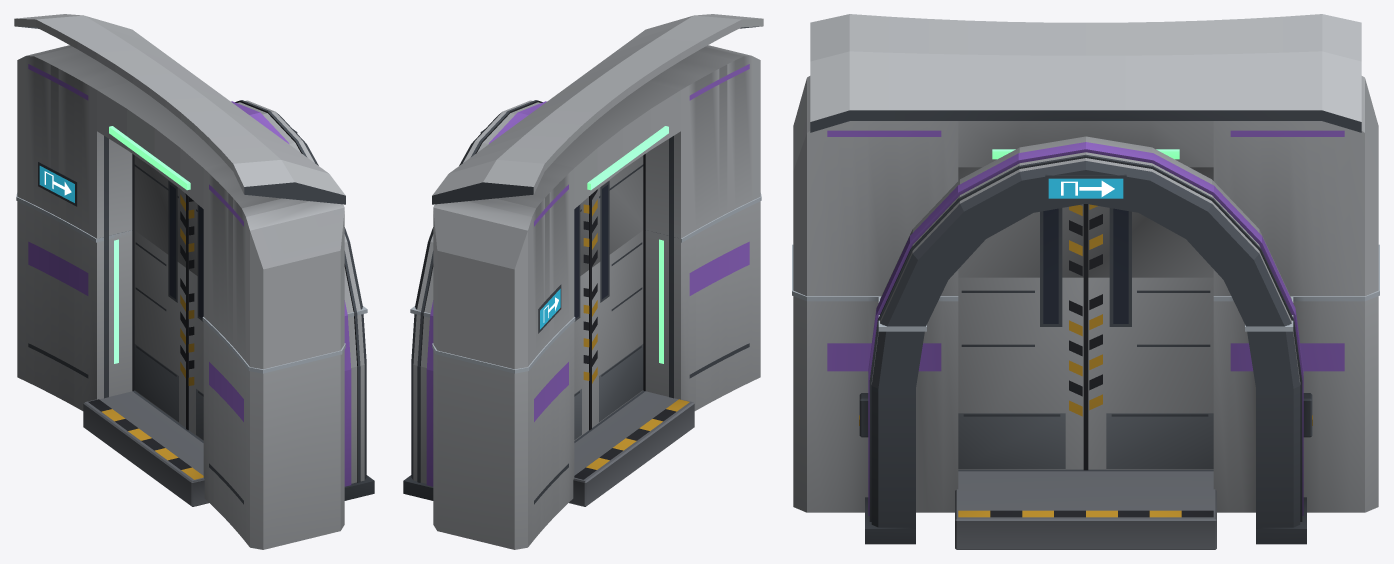
Rendered from doorway_r850.glb.
The picture shows the model from 3 angles, left to right: view 1: azimuth 30°, elevation 25°; view 2: azimuth 150°, elevation 25°; view 3: azimuth 270°, elevation 25°; orthographic projection. The views are drawn at different scales.
Visible parts, largest first — view 1: FrameTop, Frame, DoorR, DoorRTop, DoorL, FrameCap, DoorLTop, Sign, Status, Lights; view 2: FrameTop, Frame, DoorL, DoorLTop, DoorR, FrameCap, DoorRTop, Status, Sign, Lights; view 3: FrameTop, Frame, DoorL, DoorR, DoorLTop, DoorRTop, Sign, FrameCap.
Boxes of the visible parts, x1=… form: FrameTop: x1=14, y1=14, x2=362, y2=369; Frame: x1=17, y1=201, x2=374, y2=549; DoorR: x1=134, y1=230, x2=186, y2=429; DoorRTop: x1=134, y1=155, x2=186, y2=268; DoorL: x1=187, y1=269, x2=203, y2=440; FrameCap: x1=16, y1=193, x2=367, y2=373; DoorLTop: x1=187, y1=195, x2=203, y2=280; Sign: x1=38, y1=129, x2=297, y2=206; Status: x1=109, y1=126, x2=190, y2=190; Lights: x1=114, y1=239, x2=118, y2=363; FrameTop: x1=415, y1=14, x2=763, y2=369; Frame: x1=403, y1=201, x2=760, y2=549; DoorL: x1=591, y1=230, x2=643, y2=429; DoorLTop: x1=591, y1=155, x2=643, y2=268; DoorR: x1=574, y1=269, x2=590, y2=440; FrameCap: x1=410, y1=193, x2=761, y2=373; DoorRTop: x1=574, y1=195, x2=590, y2=280; Status: x1=587, y1=126, x2=668, y2=190; Sign: x1=480, y1=129, x2=561, y2=333; Lights: x1=659, y1=239, x2=663, y2=363; FrameTop: x1=793, y1=14, x2=1378, y2=326; Frame: x1=793, y1=296, x2=1378, y2=549; DoorL: x1=958, y1=277, x2=1085, y2=470; DoorR: x1=1086, y1=277, x2=1213, y2=470; DoorLTop: x1=958, y1=167, x2=1085, y2=277; DoorRTop: x1=1086, y1=167, x2=1213, y2=277; Sign: x1=1045, y1=174, x2=1126, y2=201; FrameCap: x1=792, y1=244, x2=1379, y2=331.
Size of the model in its own units: 1.25 by 2.93 by 3.46.
